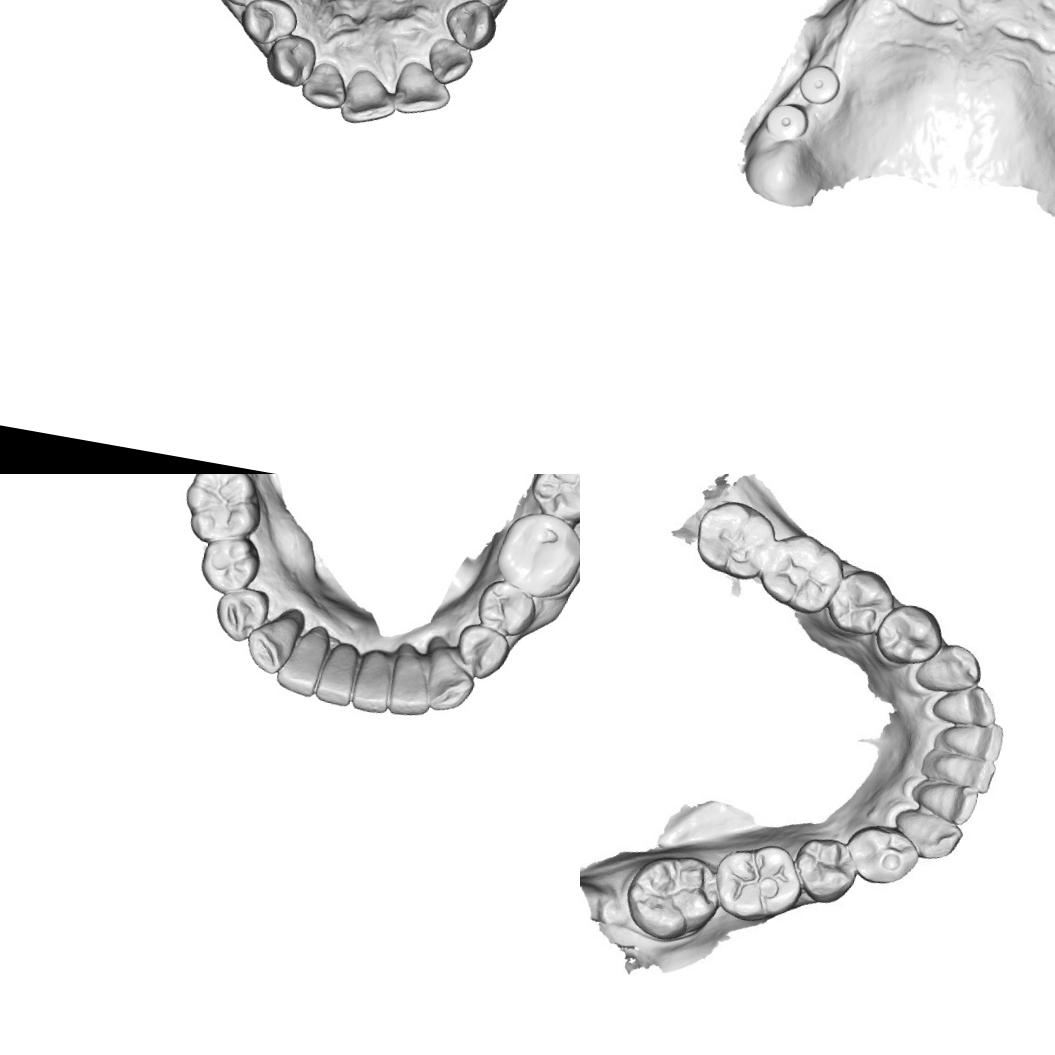canine: (912, 636, 988, 701), (885, 804, 967, 863), (239, 604, 302, 677), (421, 645, 480, 718), (260, 28, 320, 91), (438, 0, 501, 55)
implant: (792, 59, 845, 109), (760, 98, 813, 144)
incisor: (270, 621, 332, 701), (382, 639, 440, 722), (336, 64, 402, 130), (390, 57, 456, 121), (930, 677, 1003, 734), (308, 640, 362, 710), (348, 644, 400, 716), (926, 747, 1000, 796), (934, 716, 1008, 764), (915, 777, 983, 829), (297, 55, 353, 114), (423, 35, 478, 90)
molar: (618, 847, 726, 950), (707, 835, 808, 930), (752, 527, 849, 620), (489, 505, 580, 601), (688, 496, 780, 586), (175, 474, 266, 550), (524, 474, 580, 529)
premolar: (822, 564, 900, 642), (868, 599, 947, 671), (788, 831, 863, 906), (844, 821, 920, 891), (193, 532, 265, 599), (448, 620, 515, 685), (472, 576, 540, 640), (209, 582, 275, 647), (235, 0, 301, 50), (212, 0, 279, 13)
